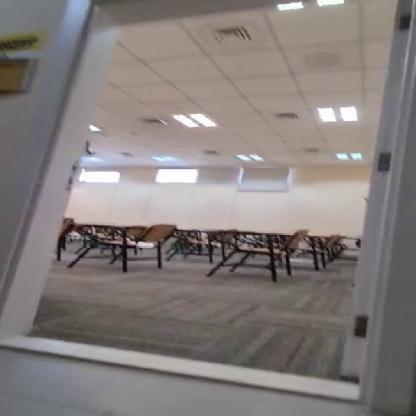open: (0, 0, 414, 412)
